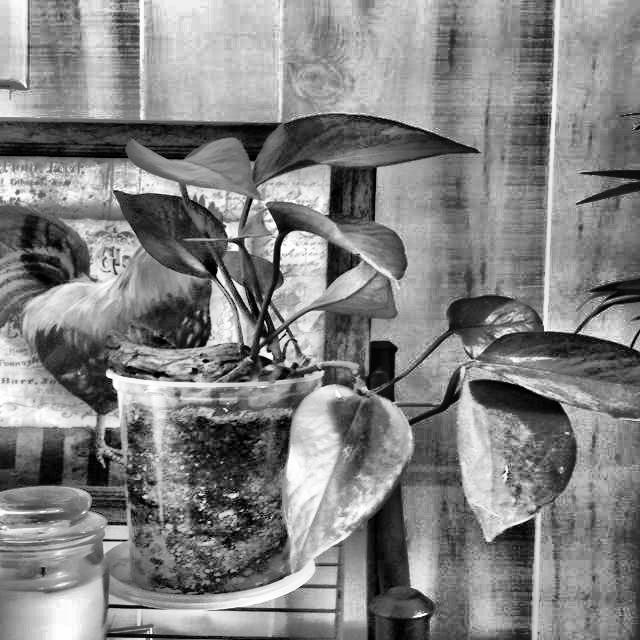plants: (95, 110, 640, 578), (209, 349, 408, 571)
